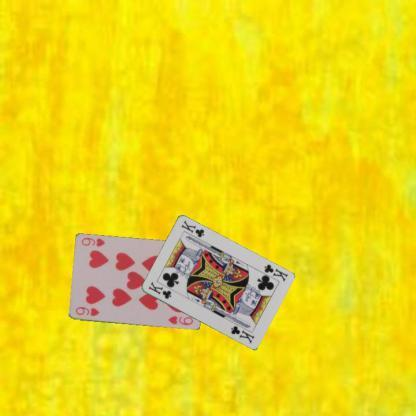9h: (73, 304, 100, 318)
Kc: (261, 262, 289, 284), (146, 279, 172, 301)
